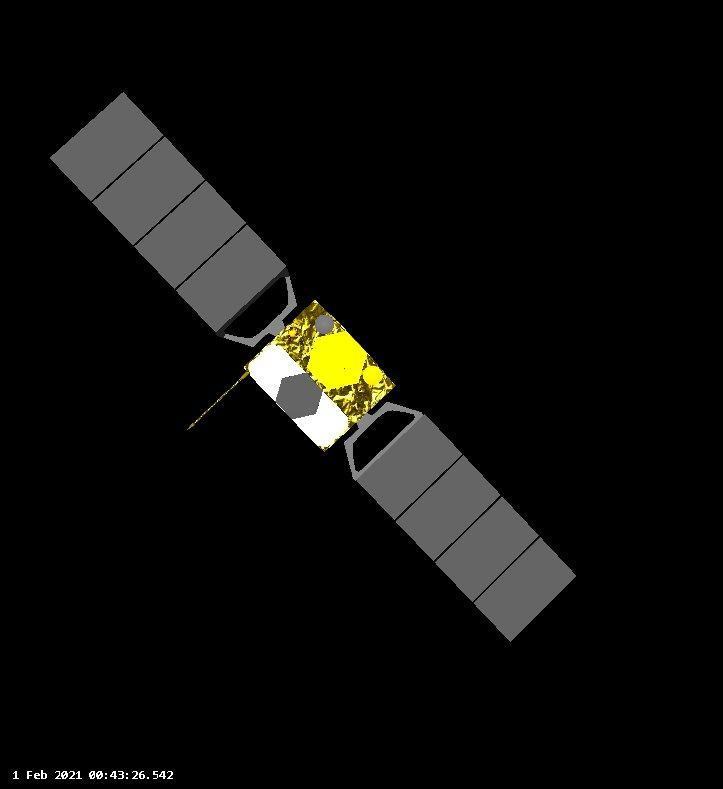antenna: (179, 369, 250, 438)
body: (242, 298, 398, 454)
solar: (47, 89, 289, 335), (353, 411, 579, 645)
